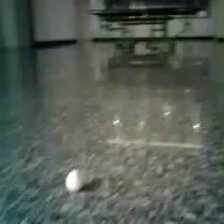w: (65, 169, 84, 191)
